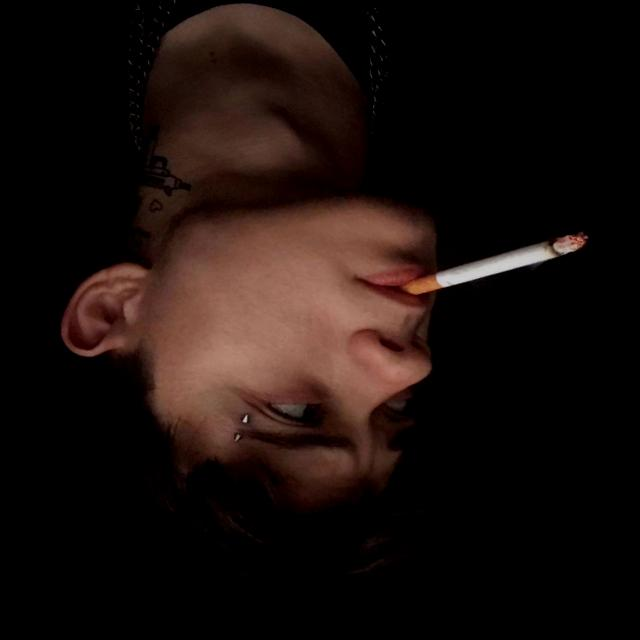smoke: (356, 182, 640, 377)
